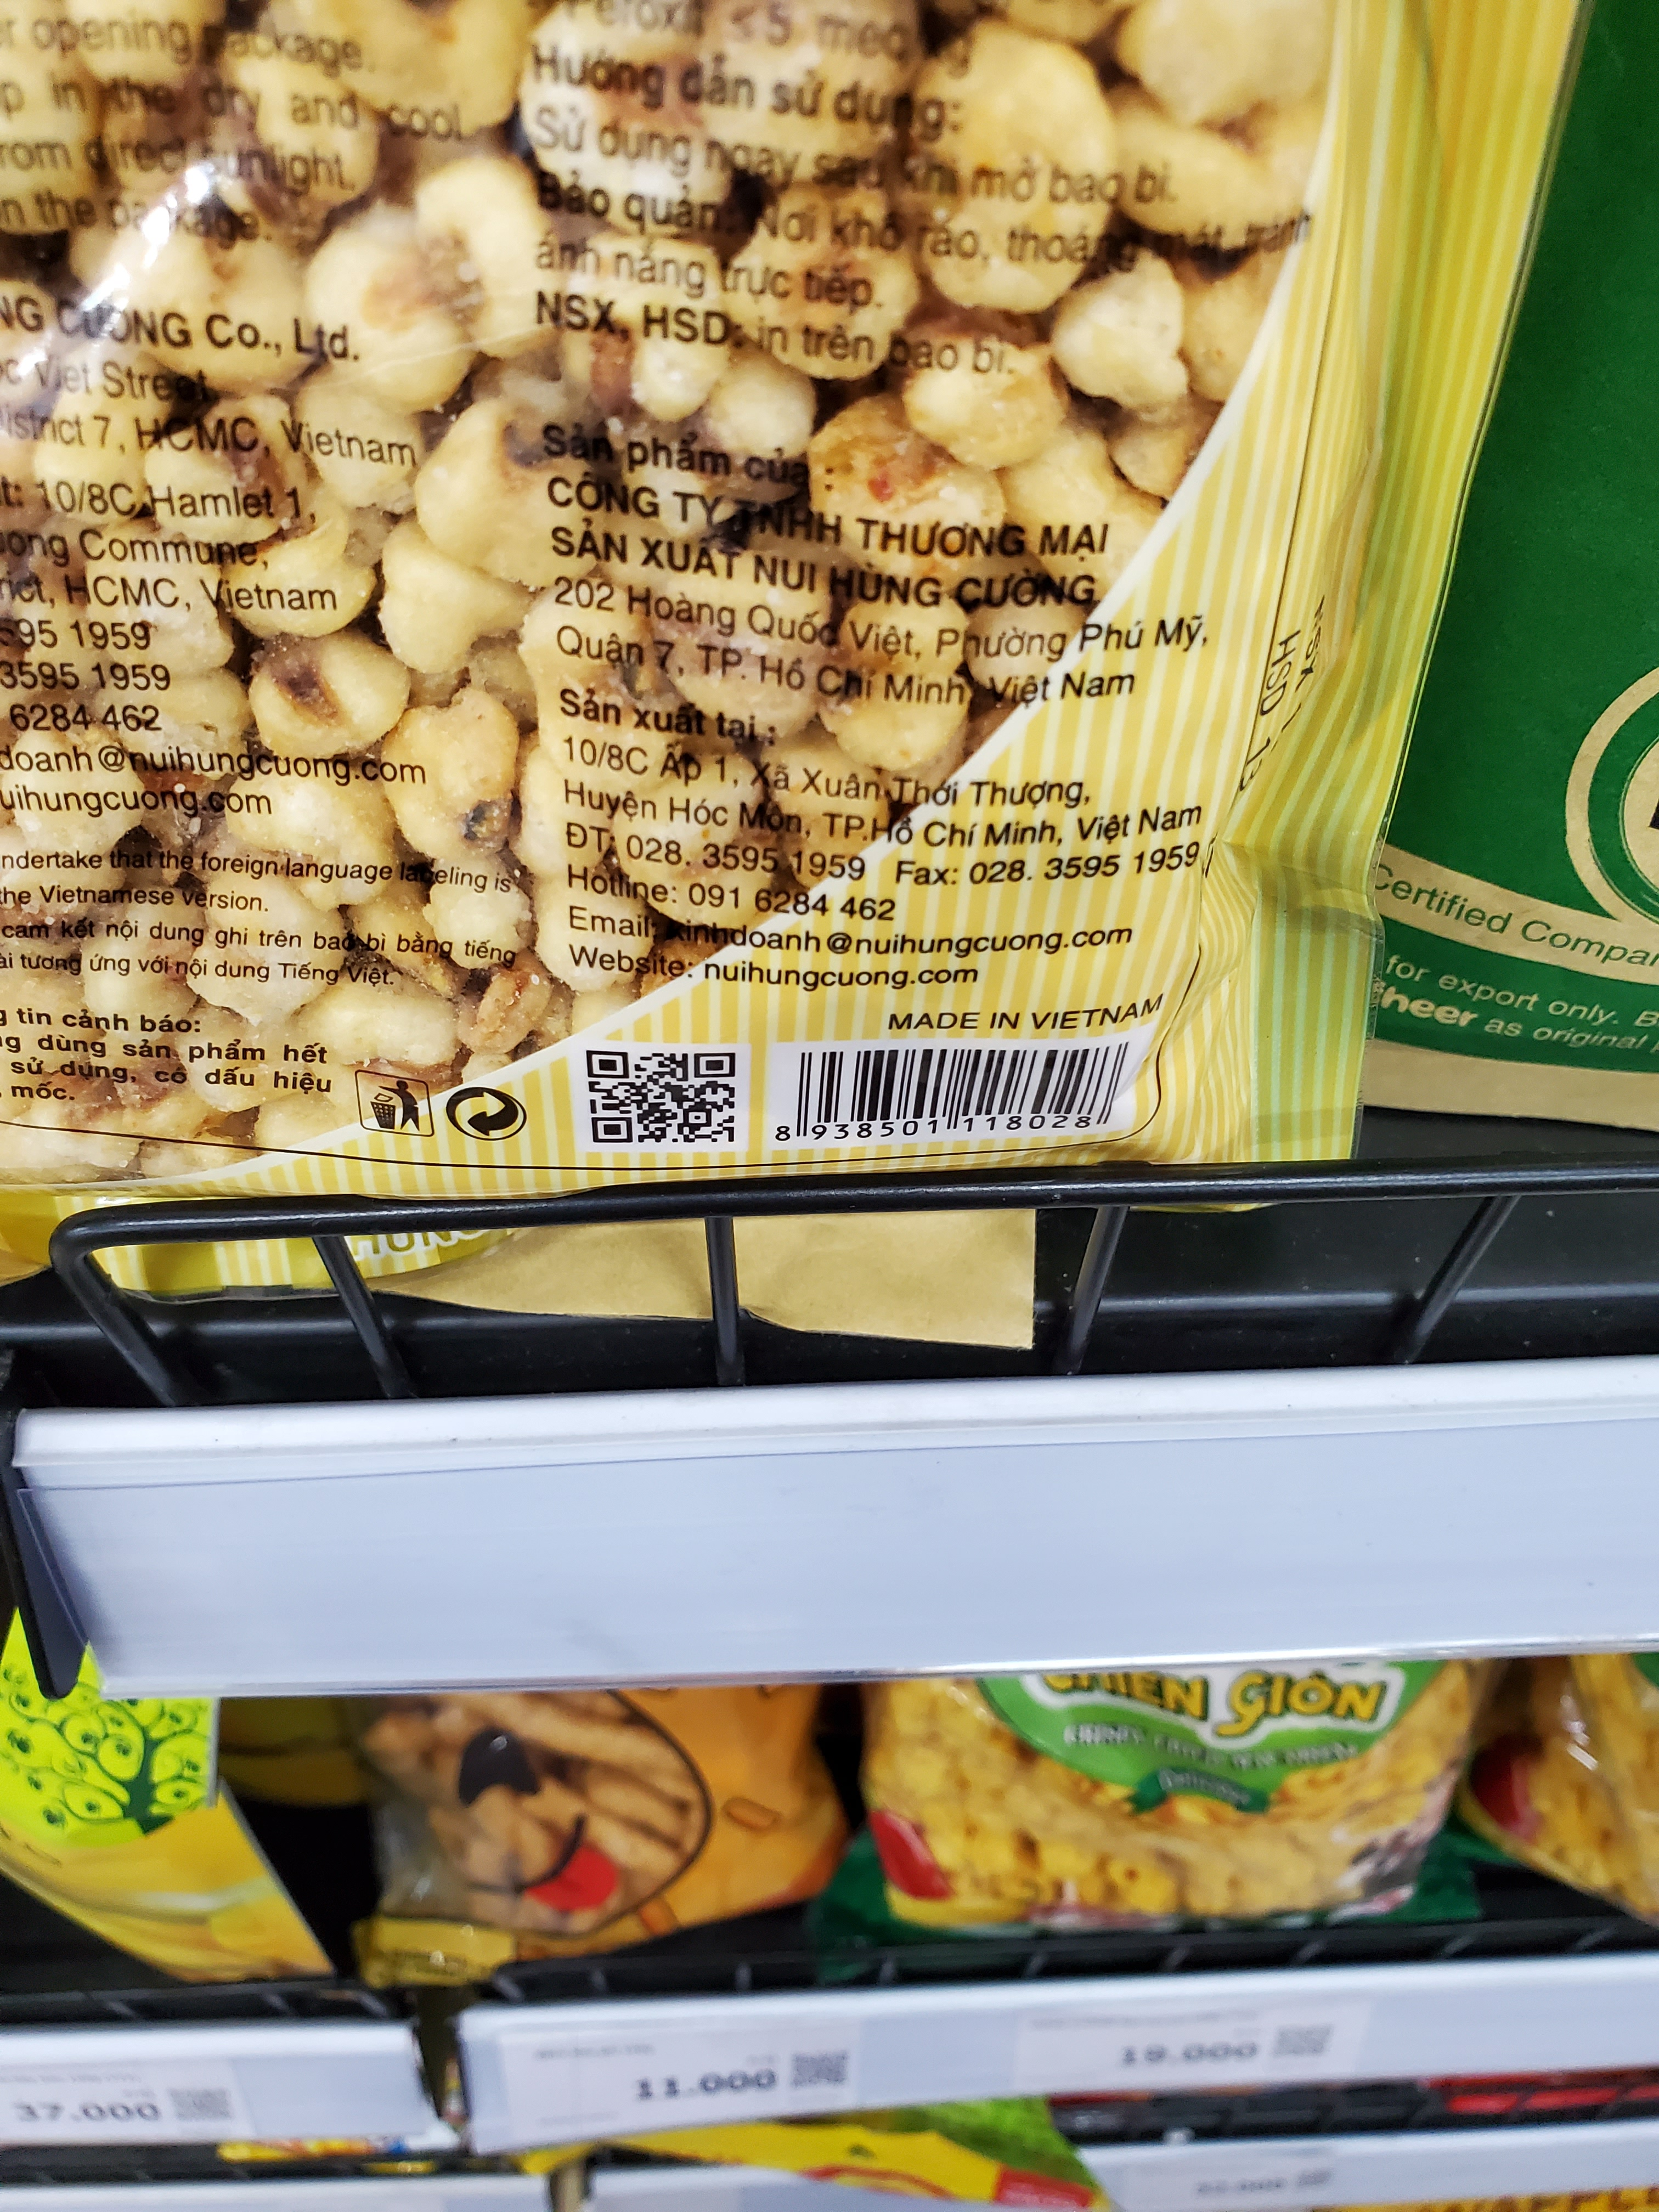barcode: (758, 1019, 1152, 1162)
qr code: (552, 1036, 765, 1179)
